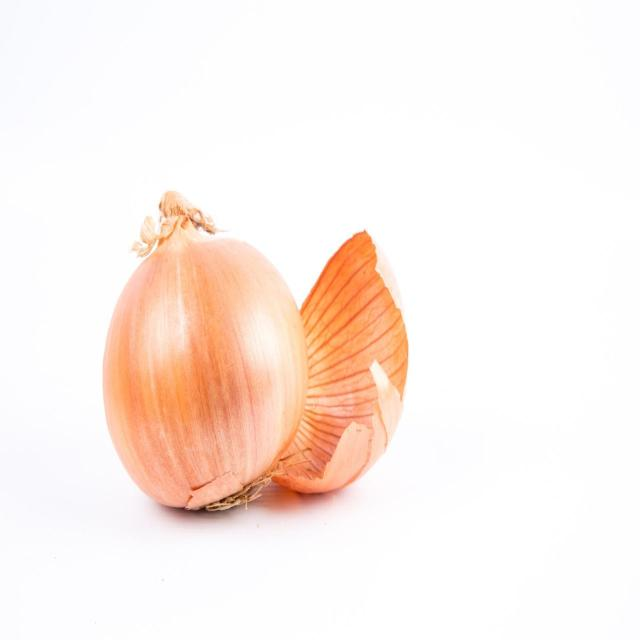Onion: (102, 189, 309, 513), (269, 226, 410, 496)
